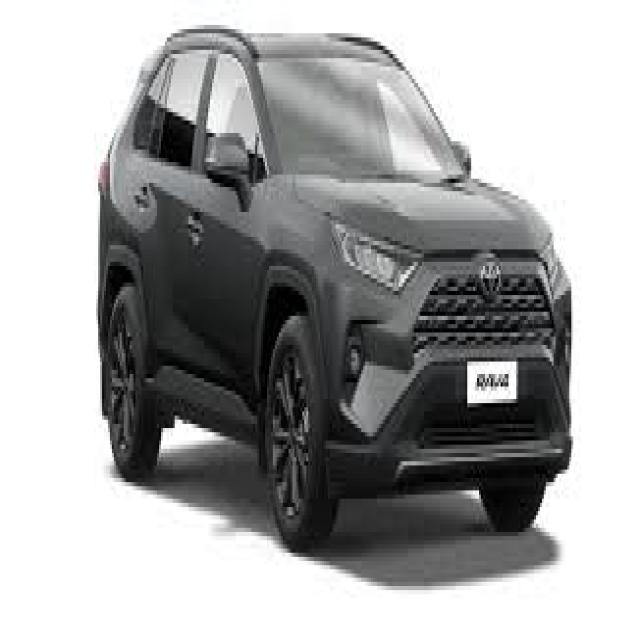light_vehicle: (95, 27, 574, 555)
